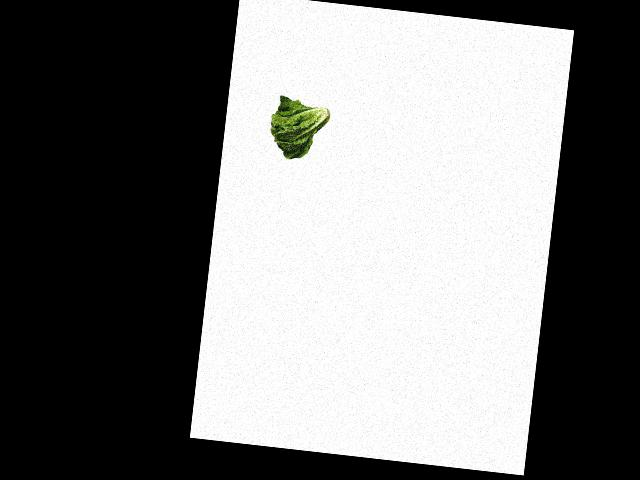lettuce: (264, 93, 335, 164)
